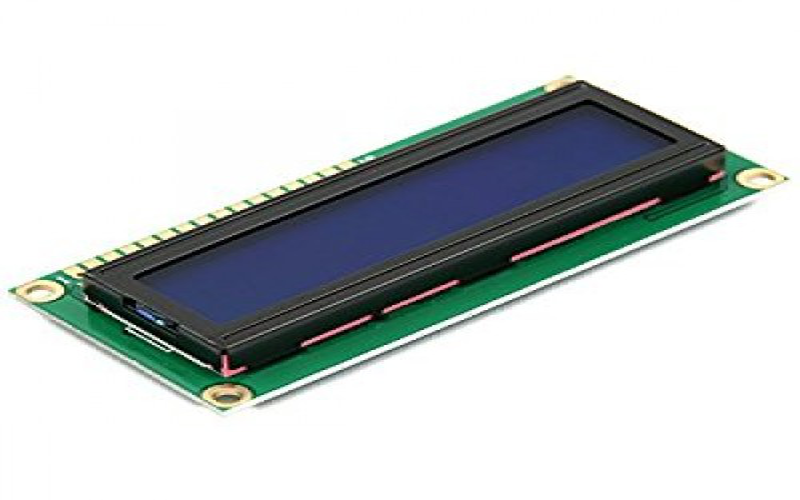LCD: (80, 67, 743, 396)
